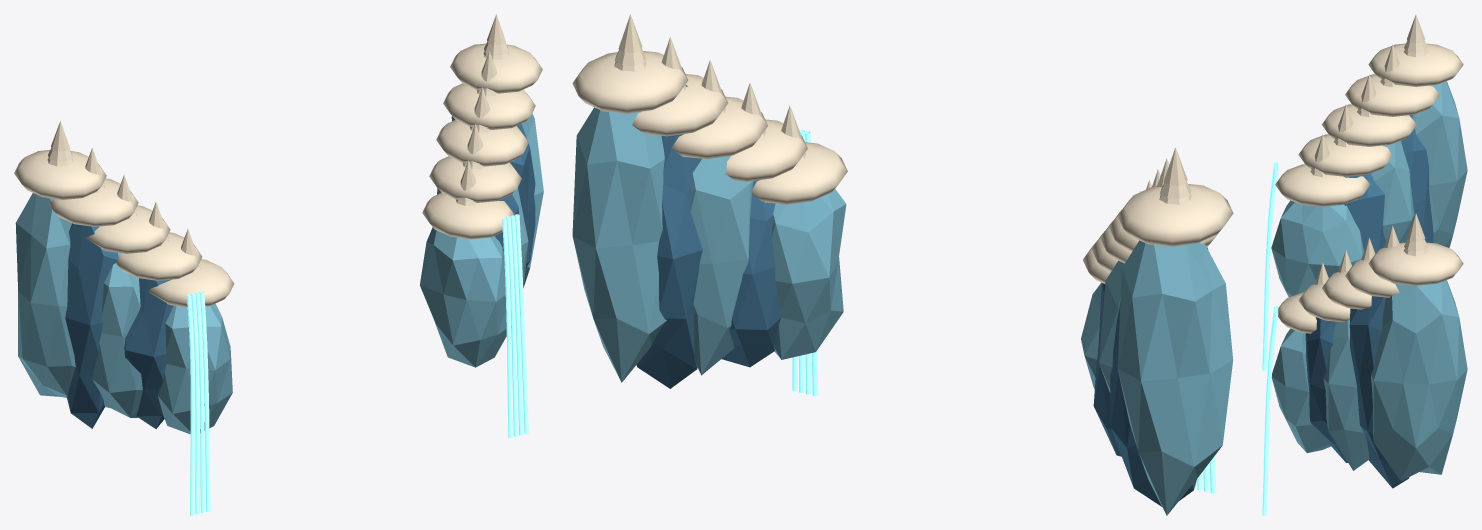
The model's file is landmark-snow.glb.
The picture shows the model from 3 angles, left to right: view 1: azimuth 30°, elevation 25°; view 2: azimuth 150°, elevation 25°; view 3: azimuth 270°, elevation 25°; orthographic projection. The views are drawn at different scales.
Visible parts, largest first — view 1: Landmark_snow_Glacier, Landmark_snow_GateIvory, Landmark_snow_DeepIce, Landmark_snow_Waterfall; view 2: Landmark_snow_Glacier, Landmark_snow_GateIvory, Landmark_snow_DeepIce, Landmark_snow_Waterfall; view 3: Landmark_snow_Glacier, Landmark_snow_GateIvory, Landmark_snow_DeepIce, Landmark_snow_Waterfall.
Part boxes in pixels (x1=…): Landmark_snow_Glacier: x1=15, y1=113, x2=543, y2=434; Landmark_snow_GateIvory: x1=14, y1=14, x2=542, y2=307; Landmark_snow_DeepIce: x1=65, y1=94, x2=535, y2=428; Landmark_snow_Waterfall: x1=187, y1=214, x2=528, y2=515; Landmark_snow_Glacier: x1=572, y1=107, x2=1233, y2=515; Landmark_snow_GateIvory: x1=572, y1=14, x2=1233, y2=283; Landmark_snow_DeepIce: x1=636, y1=84, x2=1208, y2=506; Landmark_snow_Waterfall: x1=792, y1=129, x2=1216, y2=493; Landmark_snow_Glacier: x1=1271, y1=81, x2=1467, y2=480; Landmark_snow_GateIvory: x1=1275, y1=14, x2=1463, y2=333; Landmark_snow_DeepIce: x1=1305, y1=115, x2=1433, y2=488; Landmark_snow_Waterfall: x1=1262, y1=162, x2=1278, y2=515.
Bounding box in the file's own units: 47.6 × 30.81 × 17.62.
